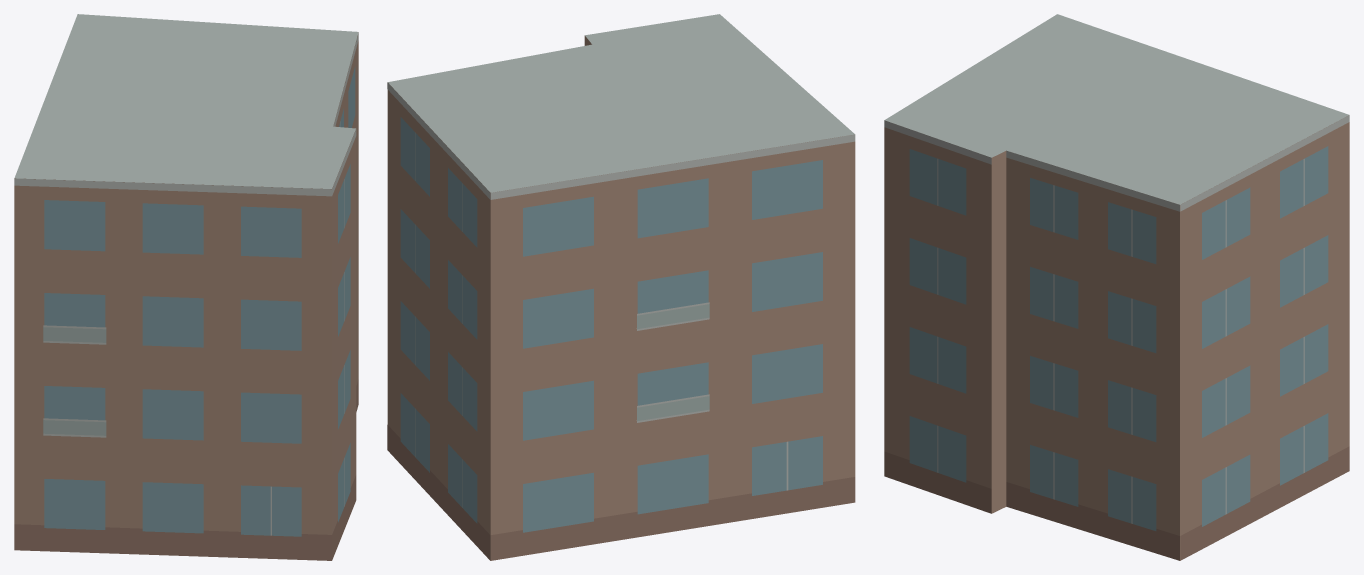
Rendered from survey-upis-33017458.glb.
The picture shows the model from 3 angles, left to right: view 1: azimuth 30°, elevation 25°; view 2: azimuth 150°, elevation 25°; view 3: azimuth 270°, elevation 25°; orthographic projection. The views are drawn at different scales.
Visible parts, largest first — view 1: survey-upis-33017458.tmp; view 2: survey-upis-33017458.tmp; view 3: survey-upis-33017458.tmp.
Part boxes in pixels (box(x1,y1,x2,y2)): survey-upis-33017458.tmp: box(14, 14, 358, 560); survey-upis-33017458.tmp: box(387, 14, 855, 560); survey-upis-33017458.tmp: box(884, 14, 1349, 560).
Bounding box in the file's own units: 14.38 × 12.5 × 14.81.
